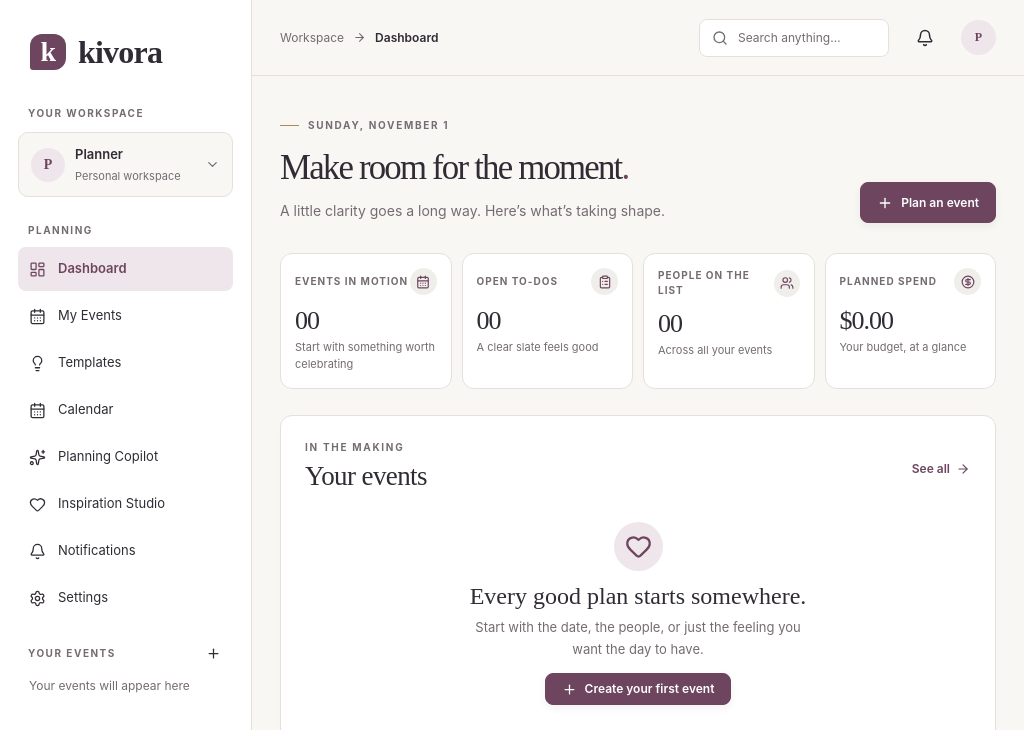
Scenario: Planner workflows › starts with a private empty workspace without sign-in
Expected: the heading "Every good plan starts somewhere." is shown, [470,583,806,610]
Click the button "Settings" at (126, 598), box [18,576,233,620]
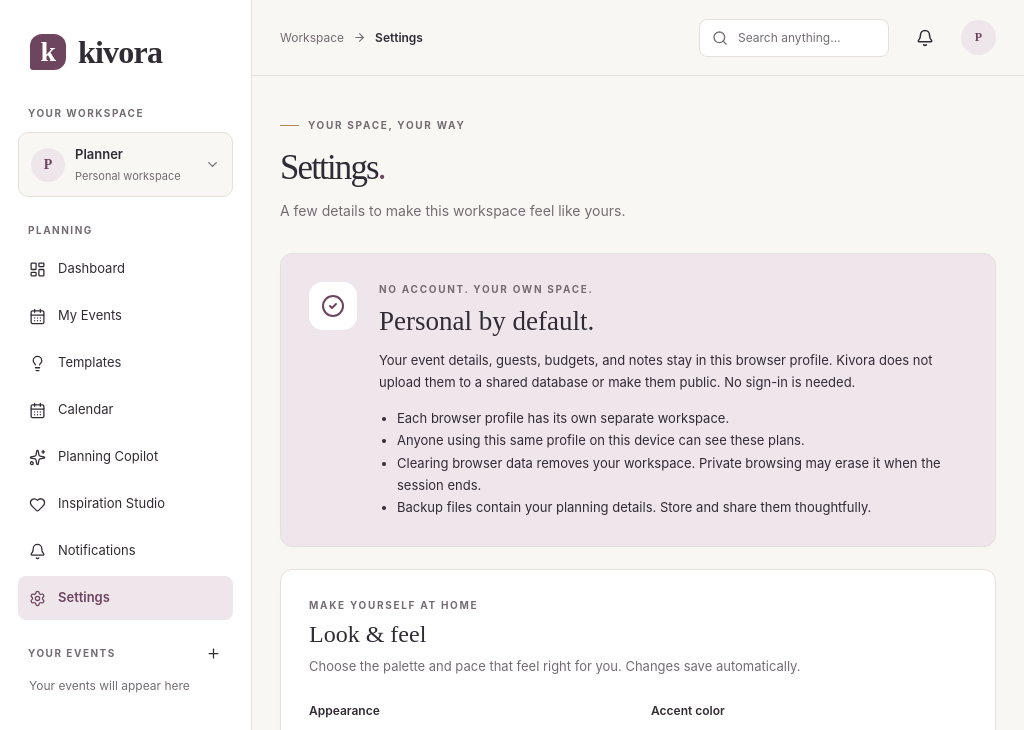
Expected: the heading "Personal by default." is shown, [379,306,594,336]
